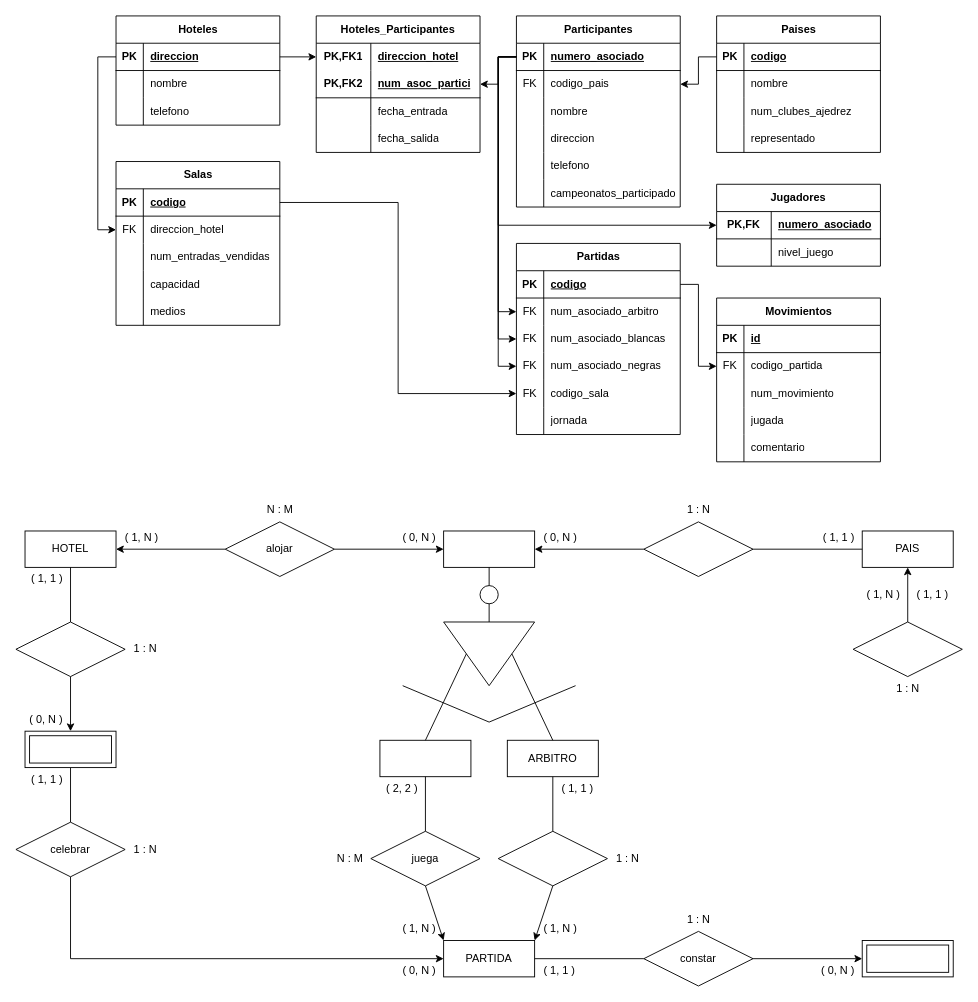
This 978x1002 diagram has some shape labels left out. The centre of each missing label's shape, as x and y in pixels:
"arbitra" goes at (552,858).
"disponer" goes at (70,649).
"enviar" goes at (698,548).
"es representado" goes at (907,649).
"JUGADOR" goes at (425,758).
"MOVIMIENTO" goes at (907,958).
"PARTICIPANTE" goes at (489,548).
"SALA" goes at (70,749).
